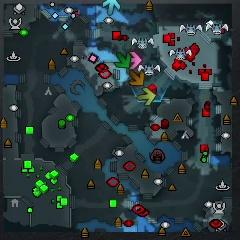x1: (130, 51, 143, 72)
x2: (138, 88, 155, 105)
x3: (101, 0, 121, 16)
x4: (114, 52, 131, 69)
x5: (128, 71, 147, 87)
